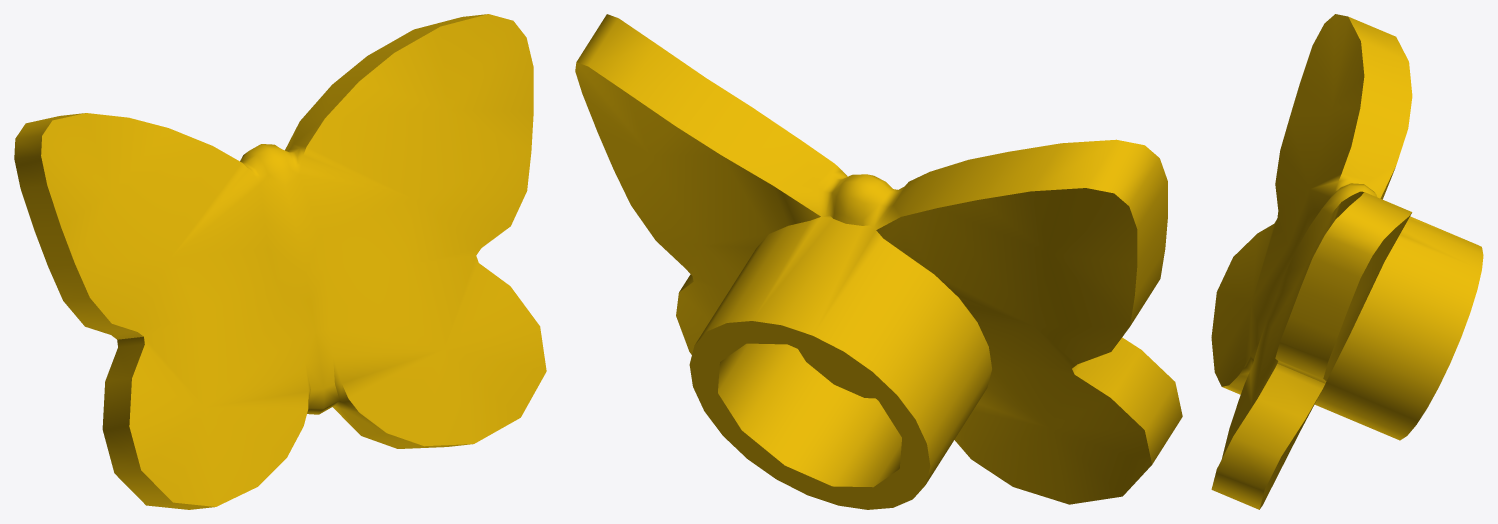
Rendered from butterfly_80674.glb.
The picture shows the model from 3 angles, left to right: view 1: azimuth 30°, elevation 25°; view 2: azimuth 150°, elevation 25°; view 3: azimuth 270°, elevation 25°; orthographic projection. The views are drawn at different scales.
Visible parts, largest first — view 1: 00001_bl_80674.dat; view 2: 00001_bl_80674.dat; view 3: 00001_bl_80674.dat.
Part boxes in pixels (left/top/right/bottom): 00001_bl_80674.dat: left=14, top=14, right=546, bottom=509; 00001_bl_80674.dat: left=575, top=14, right=1182, bottom=509; 00001_bl_80674.dat: left=1211, top=14, right=1483, bottom=509.
Size of the model in its own units: 1.54 by 1.14 by 0.8336.
